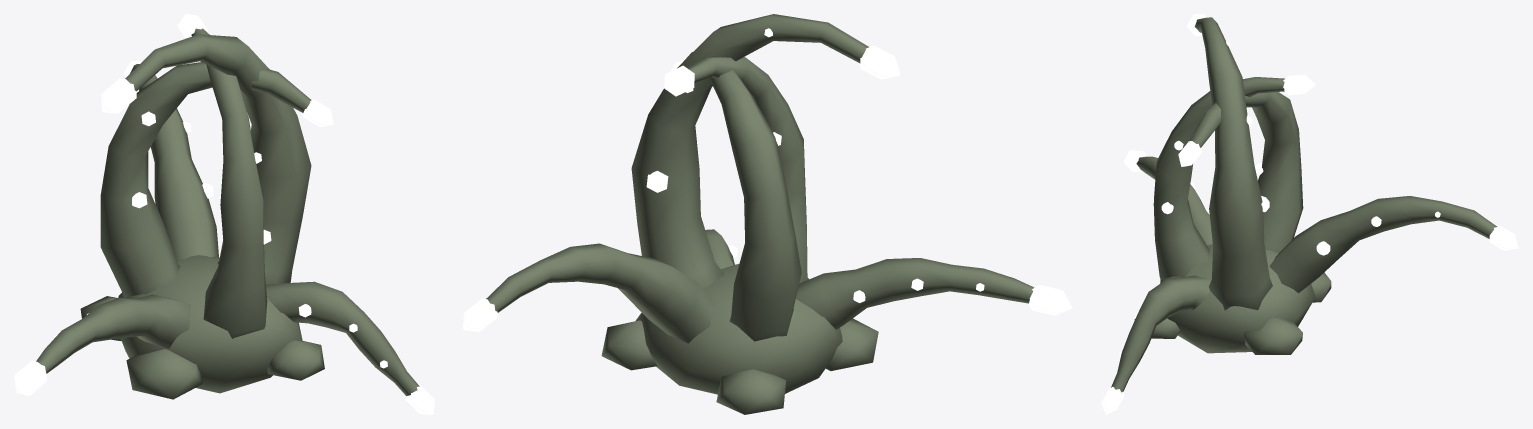
The model's file is tentacle_plant.glb.
The picture shows the model from 3 angles, left to right: view 1: azimuth 30°, elevation 25°; view 2: azimuth 150°, elevation 25°; view 3: azimuth 270°, elevation 25°; orthographic projection. The views are drawn at different scales.
Parts seen in each view (by area): view 1: Body; view 2: Body; view 3: Body.
Part boxes in pixels (bbox=[...]): Body: bbox=[14, 14, 434, 414]; Body: bbox=[463, 14, 1072, 414]; Body: bbox=[1101, 14, 1518, 414].
Bounding box in the file's own units: 2.98 × 2.6 × 3.18.
